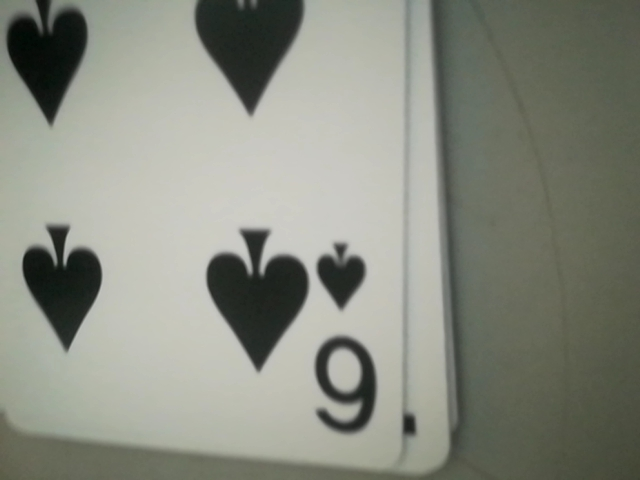ht 6: (309, 230, 388, 443)
